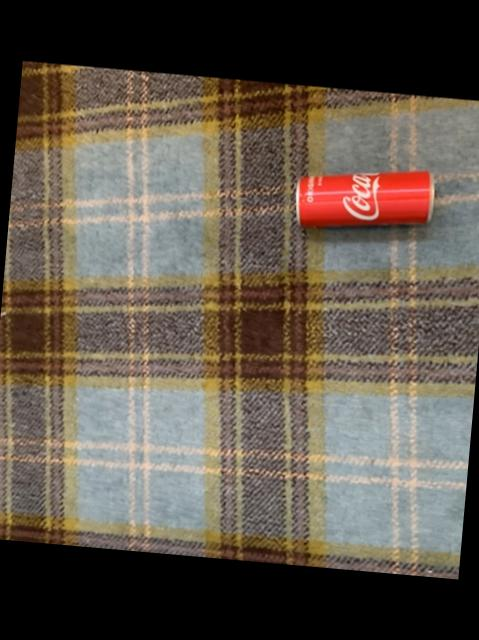metal: (296, 169, 434, 225)
